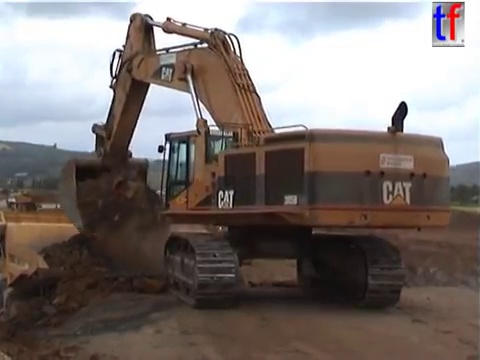excavator: (55, 9, 455, 311)
truck: (1, 211, 161, 346), (155, 220, 238, 291), (5, 192, 41, 214)
